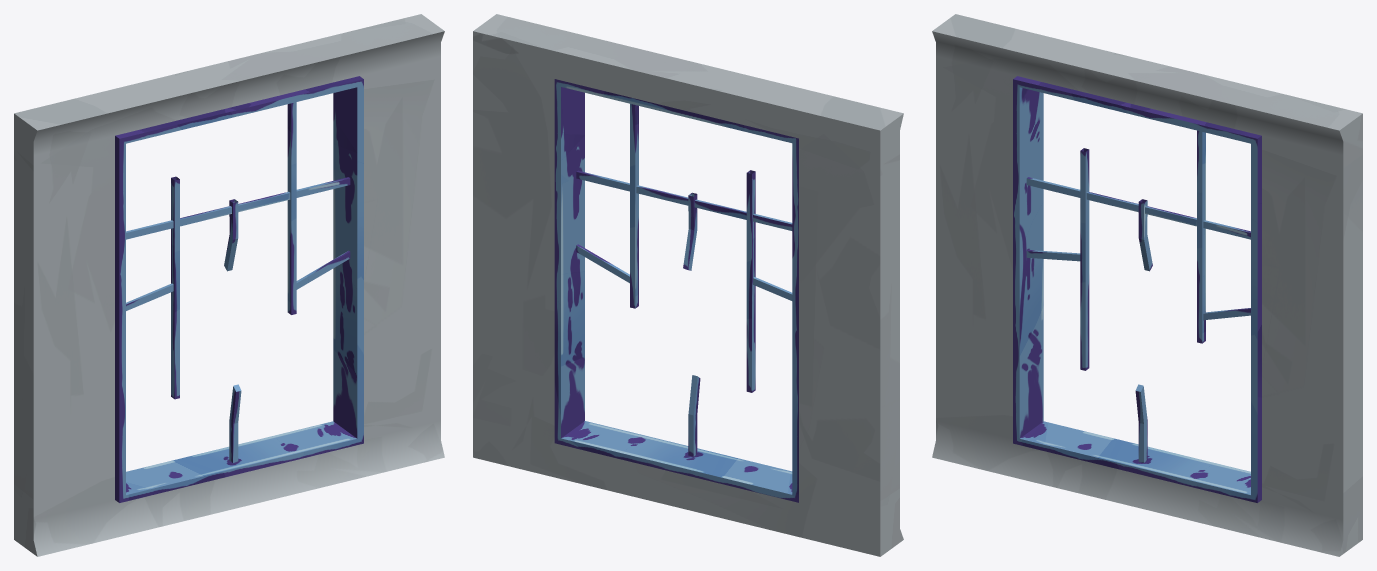
File: Wall_Window_2.glb
The picture shows the model from 3 angles, left to right: view 1: azimuth 30°, elevation 25°; view 2: azimuth 150°, elevation 25°; view 3: azimuth 330°, elevation 25°; orthographic projection.
Visible parts, largest first — view 1: Wall_3, Window_2; view 2: Wall_3, Window_2; view 3: Wall_3, Window_2.
Part boxes in pixels (left/top/right/bottom): Wall_3: left=14, top=14, right=444, bottom=556; Window_2: left=115, top=76, right=363, bottom=502; Wall_3: left=473, top=14, right=903, bottom=556; Window_2: left=554, top=79, right=798, bottom=502; Wall_3: left=932, top=14, right=1362, bottom=556; Window_2: left=1013, top=76, right=1261, bottom=502.
Size of the model in its own units: 2 by 2 by 0.2039.
2 materials, 2 textured.
